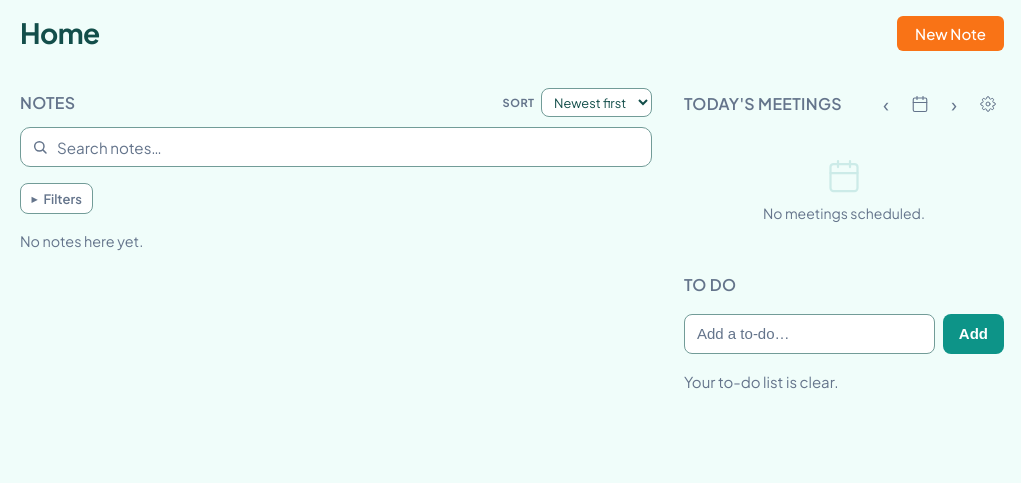
ListView — home default window + date-range filter (40-A) › falls back to the createdAt calendar date when date is null
This screenshot has width=1021, height=483.
expect the text "No explicit date" is not shown: met
Step 1. Click the button "▸ Filters" → [57, 199], box top-left (20, 183), bottom-right (93, 214)
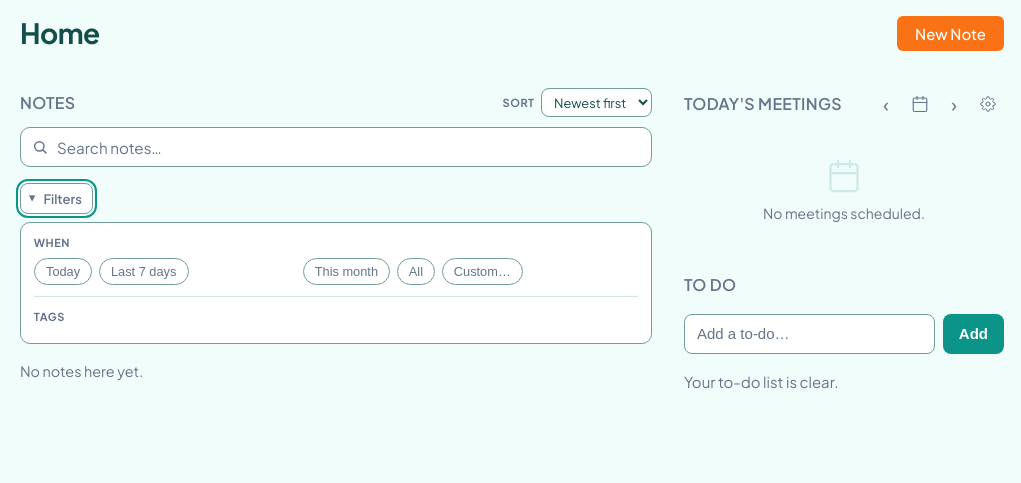
Step 2. Click the button with test id "range-preset-all" → [416, 271], box top-left (397, 258), bottom-right (435, 285)
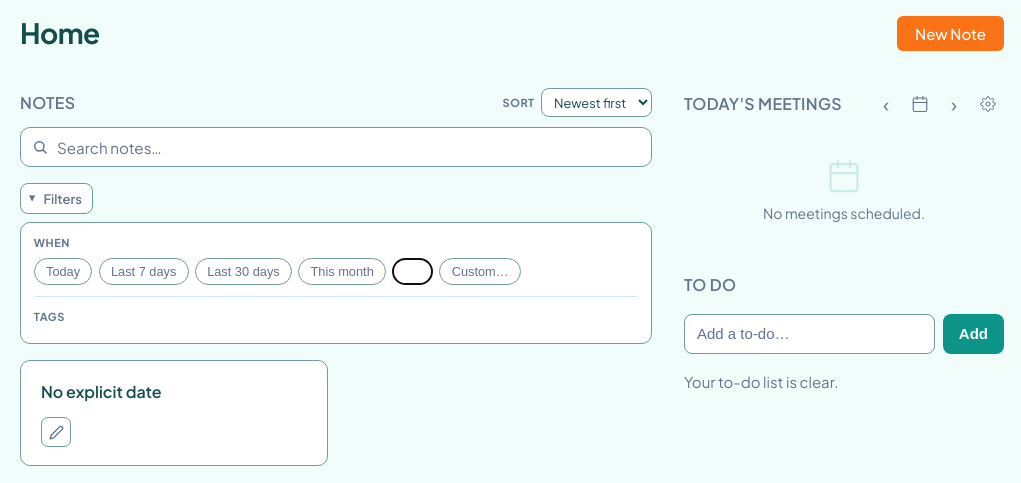
expect the heading "No explicit date" is shown: met, box top-left (41, 381), bottom-right (162, 402)
